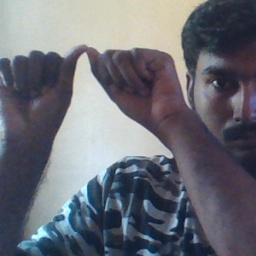A: (31, 38, 148, 128)
